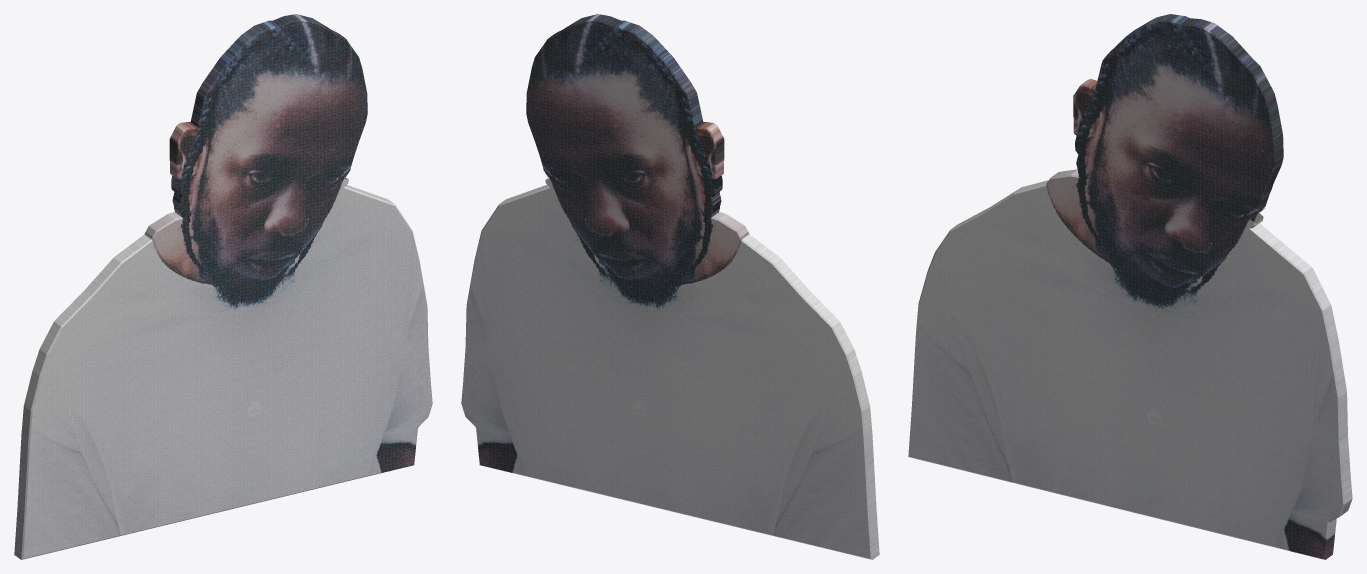
The model's file is damn animate.fbx.
3 views of the same model, side by side, from view 1: azimuth 30°, elevation 25°; view 2: azimuth 150°, elevation 25°; view 3: azimuth 330°, elevation 25° (orthographic). The views are drawn at different scales.
Visible parts, largest first — view 1: Extrude_1; view 2: Extrude_1; view 3: Extrude_1.
Part boxes in pixels (x1,y1,x2,y2): Extrude_1: [14, 14, 432, 559]; Extrude_1: [461, 14, 879, 559]; Extrude_1: [908, 14, 1352, 559].
Bounding box in the file's own units: 680 × 749 × 24.
1 material, 1 textured.
